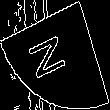N_E: (31, 27, 79, 83)
